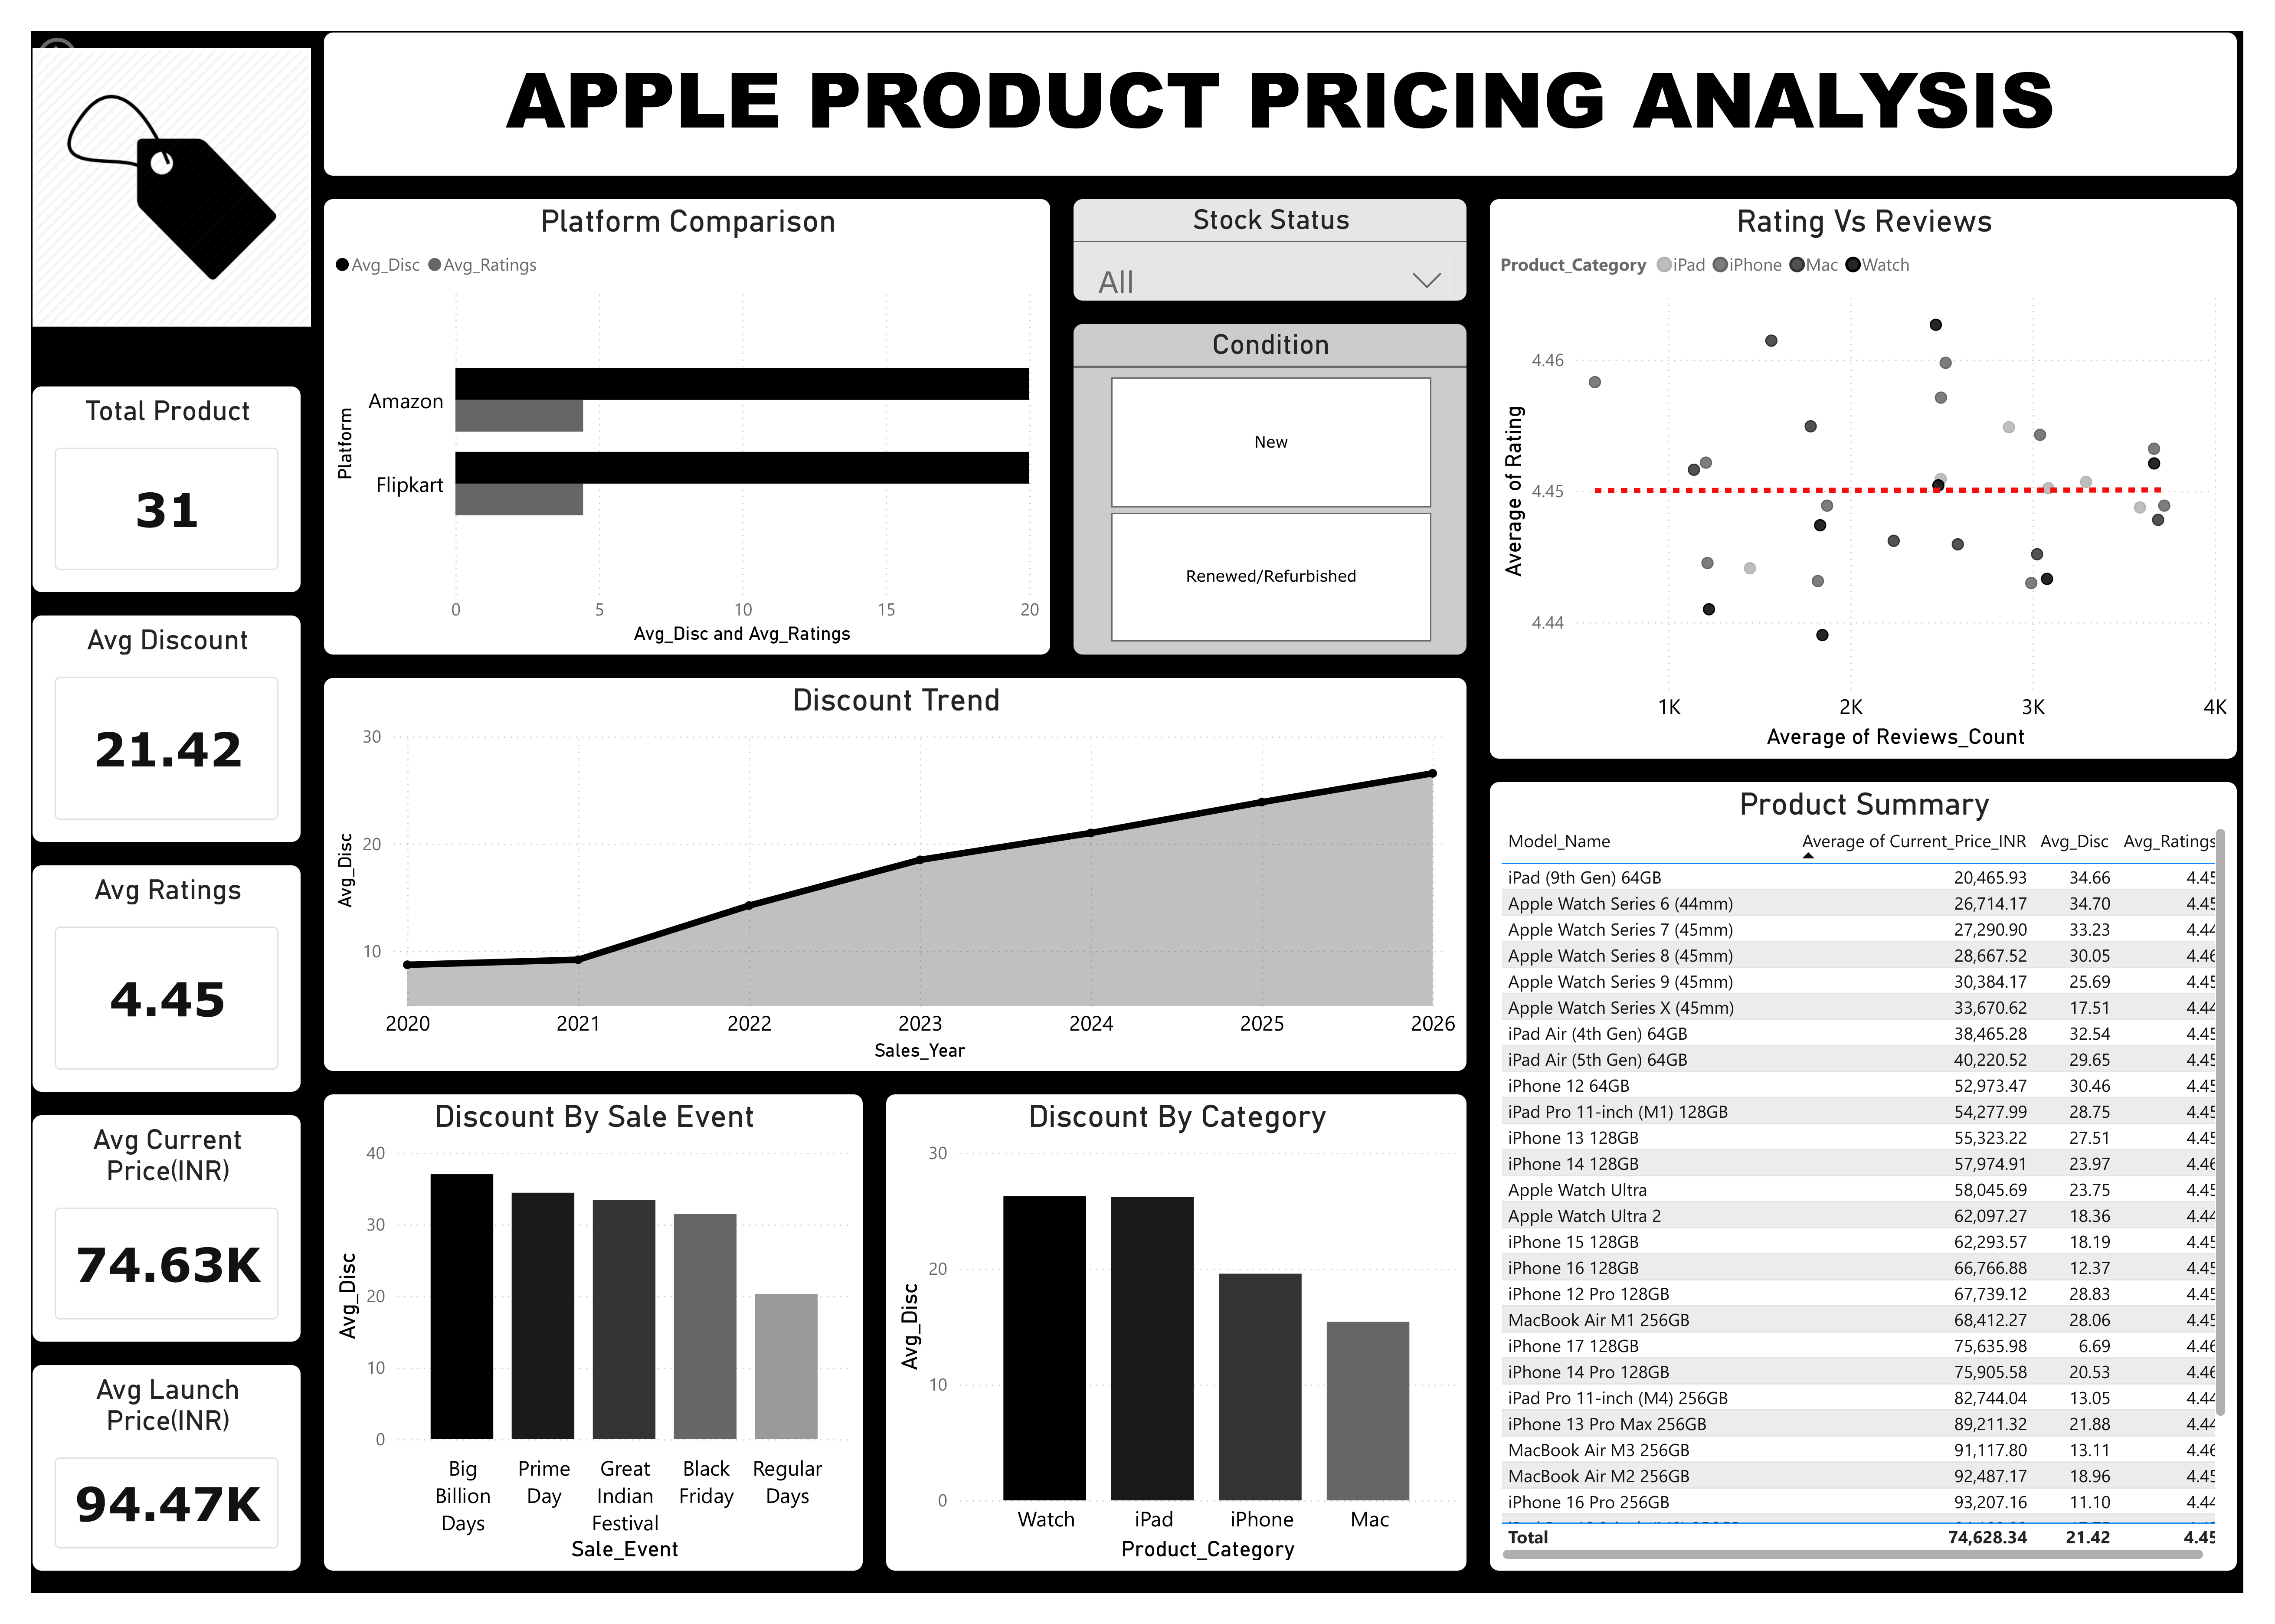

What the dashboard file says about the page in this screenshot:
{"tool":"powerbi","page":{"name":"Page 1","canvas":[1700,1200],"ordinal":0},"visuals":[{"type":"cardVisual","title":"Avg Discount","fields":{"Data":["apple_products_pricing_2020_2026.Avg_Disc"]},"box":[0,448,208,176],"z":0},{"type":"cardVisual","title":"Avg Ratings","fields":{"Data":["apple_products_pricing_2020_2026.Avg_Ratings"]},"box":[0,640,208,176],"z":1000},{"type":"cardVisual","title":"Avg Launch Price(INR)","fields":{"Data":["Avg(apple_products_pricing_2020_2026.Launch_Price_INR)"]},"box":[0,1024,208,160],"z":2000},{"type":"cardVisual","title":"Avg Current Price(INR)","fields":{"Data":["Avg(apple_products_pricing_2020_2026.Current_Price_INR)"]},"box":[0,832,208,176],"z":3000},{"type":"lineChart","title":"Discount Trend","fields":{"Category":["apple_products_pricing_2020_2026.Sales_Year"],"Y":["apple_products_pricing_2020_2026.Avg_Disc"]},"box":[224,496,880,304],"z":4000},{"type":"clusteredBarChart","title":"Platform Comparison","fields":{"Y":["apple_products_pricing_2020_2026.Avg_Disc","apple_products_pricing_2020_2026.Avg_Ratings"],"Category":["apple_products_pricing_2020_2026.Platform"]},"box":[224,128,560,352],"z":5000},{"type":"columnChart","title":"Discount By Sale Event","fields":{"Category":["apple_products_pricing_2020_2026.Sale_Event"],"Y":["apple_products_pricing_2020_2026.Avg_Disc"]},"box":[224,816,416,368],"z":6000},{"type":"columnChart","title":"Discount By Category","fields":{"Category":["apple_products_pricing_2020_2026.Product_Category"],"Y":["apple_products_pricing_2020_2026.Avg_Disc"]},"box":[656,816,448,368],"z":7000},{"type":"cardVisual","title":"Total Product","fields":{"Data":["Count(apple_products_pricing_2020_2026.Model_Name)"]},"box":[0,272,208,160],"z":8000},{"type":"tableEx","title":"Product Summary","fields":{"Values":["apple_products_pricing_2020_2026.Model_Name","Avg(apple_products_pricing_2020_2026.Current_Price_INR)","apple_products_pricing_2020_2026.Avg_Disc","apple_products_pricing_2020_2026.Avg_Ratings"]},"box":[1120,576,576,608],"z":9000},{"type":"actionButton","box":[0,0,100,40],"z":10000},{"type":"textbox","box":[224,0,1472,112],"z":11000},{"type":"slicer","title":"Stock Status","fields":{"Values":["apple_products_pricing_2020_2026.Stock_Status"]},"box":[800,128,304,80],"z":12000},{"type":"slicer","title":"Condition","fields":{"Values":["apple_products_pricing_2020_2026.Condition"]},"box":[800,224,304,256],"z":13000},{"type":"scatterChart","title":"Rating Vs Reviews","fields":{"X":["Avg(apple_products_pricing_2020_2026.Reviews_Count)"],"Y":["Avg(apple_products_pricing_2020_2026.Rating)"],"Series":["apple_products_pricing_2020_2026.Product_Category"],"Category":["apple_products_pricing_2020_2026.Model_Name"]},"box":[1120,128,576,432],"z":14000},{"type":"image","box":[0,0,216,240],"z":15000}]}

Visuals, with their boxes in screenshot pixels (x1, y1, x2, y2), scaled from the page's 1700x1200 canvas onto the 2275x1624 screenshot:
"Avg Discount" cardVisual: 0:606:278:845
"Avg Ratings" cardVisual: 0:866:278:1104
"Avg Launch Price(INR)" cardVisual: 0:1386:278:1602
"Avg Current Price(INR)" cardVisual: 0:1126:278:1364
"Discount Trend" lineChart: 300:671:1477:1083
"Platform Comparison" clusteredBarChart: 300:173:1049:650
"Discount By Sale Event" columnChart: 300:1104:857:1602
"Discount By Category" columnChart: 878:1104:1477:1602
"Total Product" cardVisual: 0:368:278:585
"Product Summary" tableEx: 1499:779:2270:1602
actionButton: 0:0:134:54
textbox: 300:0:2270:151
"Stock Status" slicer: 1070:173:1477:282
"Condition" slicer: 1070:303:1477:650
"Rating Vs Reviews" scatterChart: 1499:173:2270:758
image: 0:0:289:325
